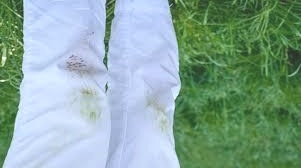earth: (148, 96, 167, 131), (77, 90, 100, 118), (65, 54, 88, 73)
